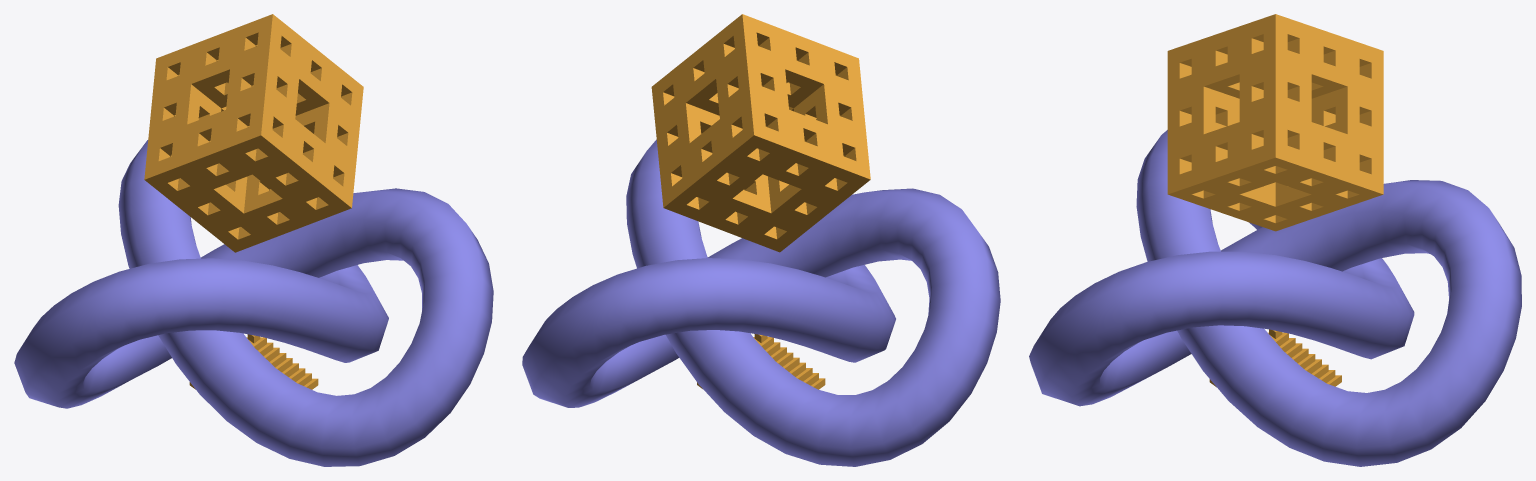
File: CMPM179_Project1_artifact.fbx
3 renders of one model, left to right at view 1: azimuth 30°, elevation 25°; view 2: azimuth 150°, elevation 25°; view 3: azimuth 270°, elevation 25°, orthographic. The views are drawn at different scales.
Parts seen in each view (by area): view 1: artifact; view 2: artifact; view 3: artifact.
Part boxes in pixels (box(x1,y1,x2,y2)): artifact: box(14, 14, 493, 466); artifact: box(522, 14, 1000, 466); artifact: box(1029, 14, 1521, 466).
Bounding box in the file's own units: 601 × 569 × 645.
